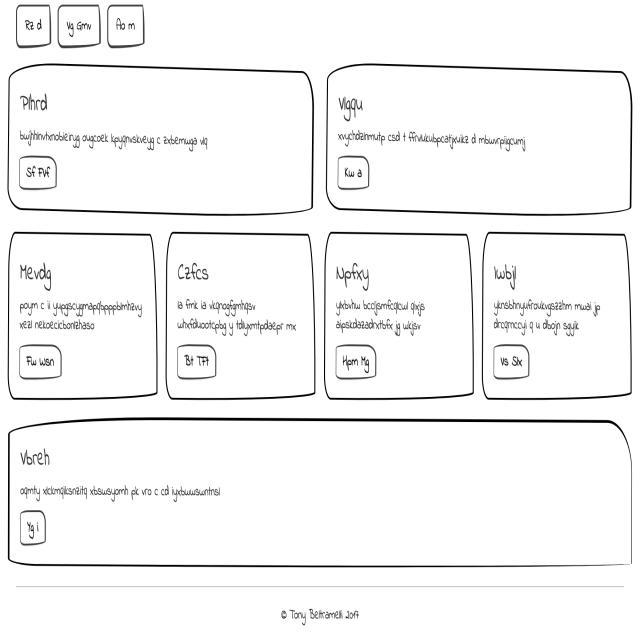Button: (15, 153, 66, 194), (336, 149, 376, 198), (172, 346, 222, 381), (333, 343, 376, 381), (16, 344, 64, 378), (489, 344, 538, 377), (12, 510, 55, 544)
Card: (6, 427, 634, 574), (9, 68, 317, 218), (326, 74, 622, 210), (483, 231, 632, 403), (169, 232, 318, 401), (12, 240, 160, 404), (330, 238, 473, 400)
Footer: (4, 587, 640, 640)
Heading 6: (14, 78, 68, 120), (10, 250, 66, 290), (10, 438, 62, 472), (487, 245, 528, 288), (333, 260, 381, 292), (332, 85, 369, 118), (170, 259, 222, 282)
Navigation Bar: (0, 0, 147, 52)
Paragraph: (331, 116, 550, 151), (17, 483, 233, 513), (172, 297, 302, 344), (13, 122, 220, 151), (14, 291, 147, 336), (488, 292, 614, 339), (331, 289, 433, 344)
